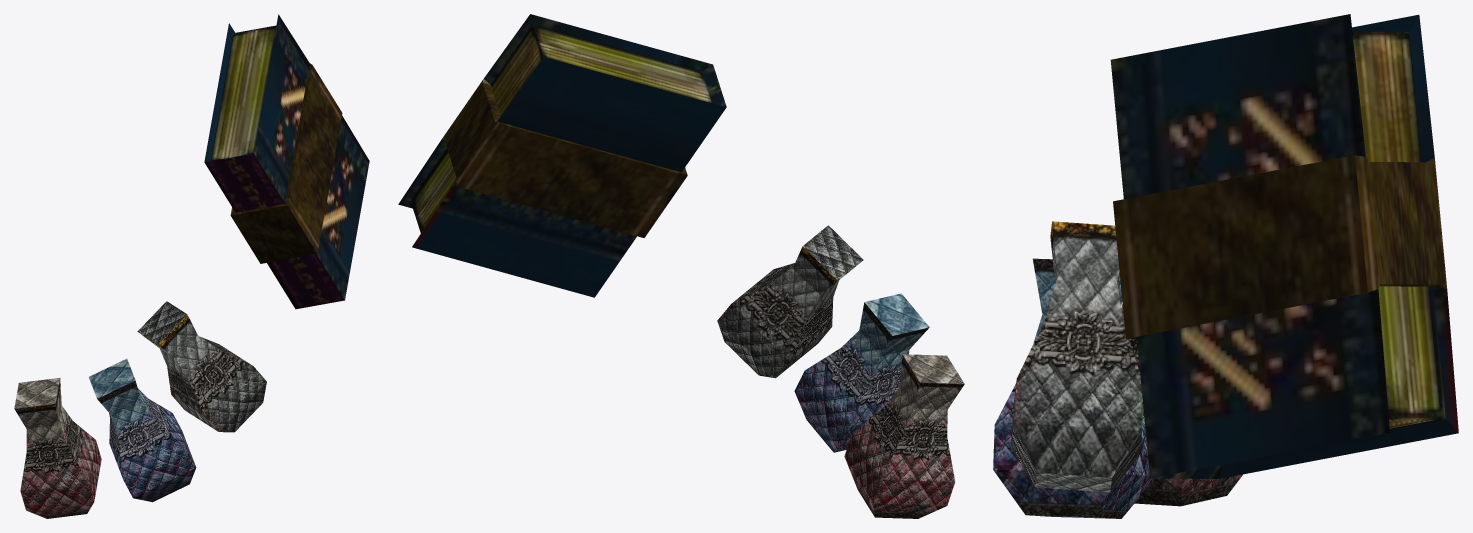
The model's file is STATIC_FIOLKI_NIEBIESKA_FIX.glb.
The picture shows the model from 3 angles, left to right: view 1: azimuth 30°, elevation 25°; view 2: azimuth 150°, elevation 25°; view 3: azimuth 270°, elevation 25°; orthographic projection. The views are drawn at different scales.
Parts seen in each view (by area): view 1: STATIC_FIOLKI_NIEBIESKA_FIX; view 2: STATIC_FIOLKI_NIEBIESKA_FIX; view 3: STATIC_FIOLKI_NIEBIESKA_FIX.
Boxes of the visible parts, x1,y1,x2,y2 form: STATIC_FIOLKI_NIEBIESKA_FIX: (14,14,369,518); STATIC_FIOLKI_NIEBIESKA_FIX: (398,14,964,518); STATIC_FIOLKI_NIEBIESKA_FIX: (993,14,1458,518).
Size of the model in its own units: 0.3684 by 0.3351 by 0.1942.
2 materials, 2 textured.
